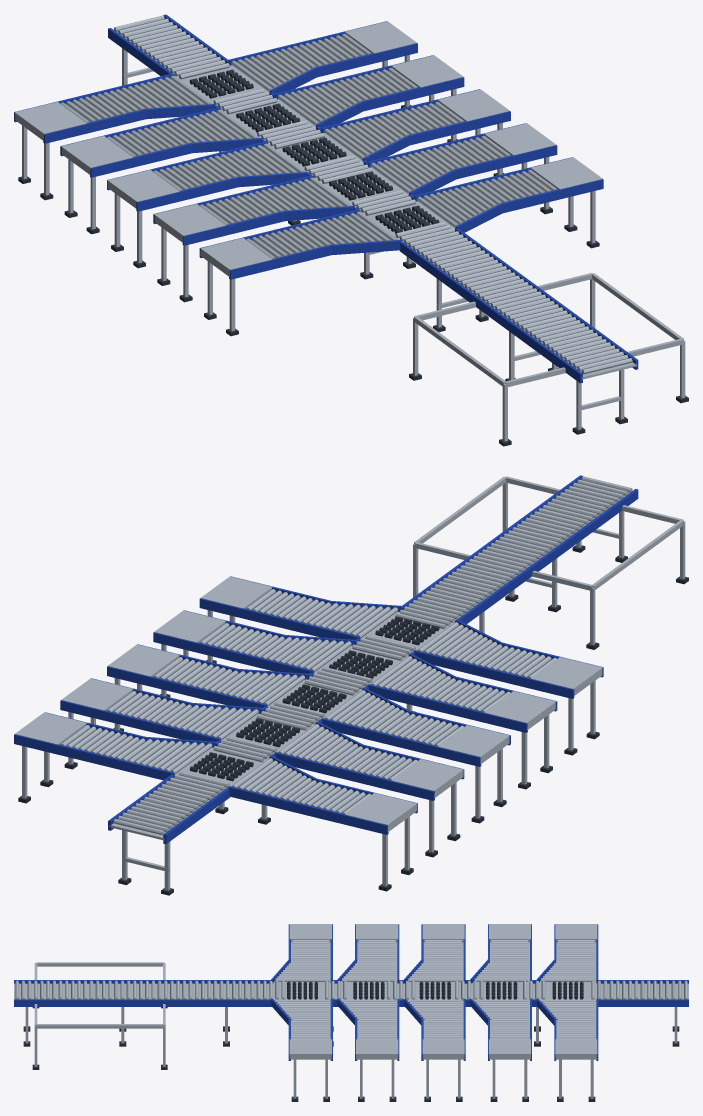
File: SM_MPR_CAD_2D457E_Connected.fbx
3 renders of one model, top to bottom at view 1: azimuth 30°, elevation 25°; view 2: azimuth 150°, elevation 25°; view 3: azimuth 270°, elevation 25°, orthographic. The views are drawn at different scales.
Visible parts, largest first — view 1: SM_MPR_CAD_2D457E_Connected; view 2: SM_MPR_CAD_2D457E_Connected; view 3: SM_MPR_CAD_2D457E_Connected.
Part boxes in pixels (x1,y1,x2,y2): SM_MPR_CAD_2D457E_Connected: (14,14,688,446); SM_MPR_CAD_2D457E_Connected: (14,475,688,895); SM_MPR_CAD_2D457E_Connected: (14,924,688,1101).
Size of the model in its own units: 594 by 1302 by 103.
